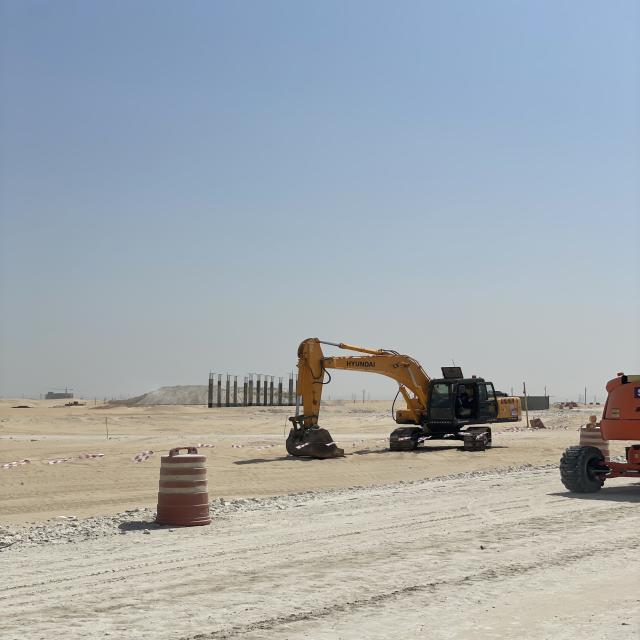excavator: (280, 327, 524, 480)
